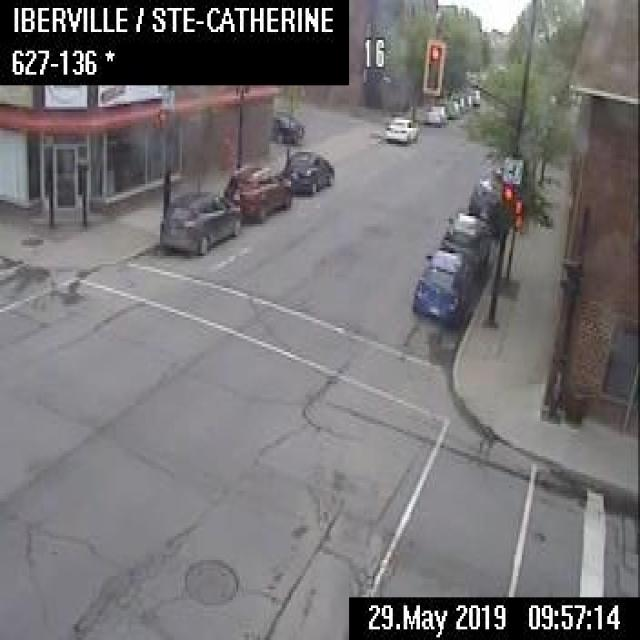vehicle: (156, 185, 242, 256), (409, 243, 474, 331), (224, 162, 290, 225), (436, 209, 495, 273), (465, 168, 511, 228), (282, 149, 333, 198), (269, 109, 302, 143), (384, 112, 416, 147), (422, 100, 445, 126), (441, 95, 460, 119), (454, 91, 468, 109), (468, 88, 480, 105)
